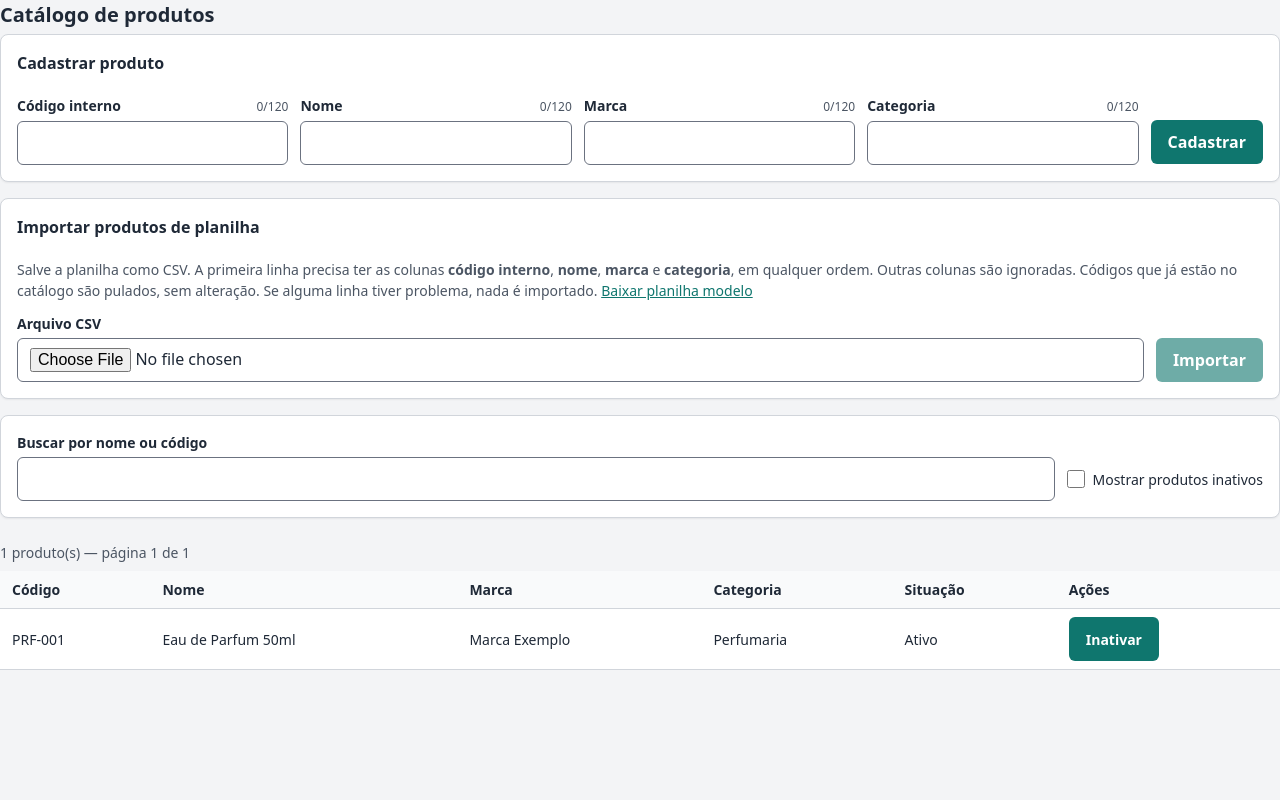
Test case: TelaProdutos (RF02) › confirmação antes de inativar (T39) › Esc cancela, como o botão
Click the button "Inativar": x=1114, y=639 [1069, 617, 1159, 661]
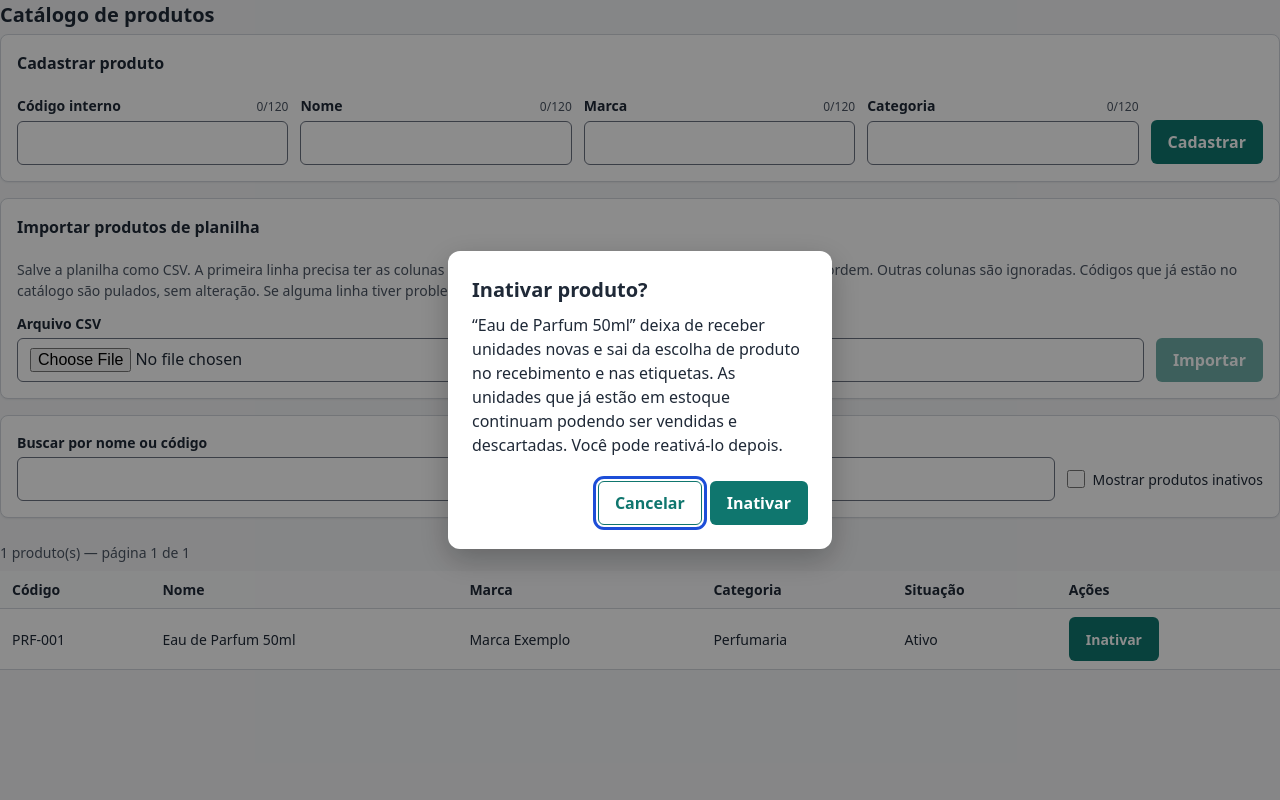
Press Escape in the dialog "Inativar produto?", box [448, 251, 832, 549]
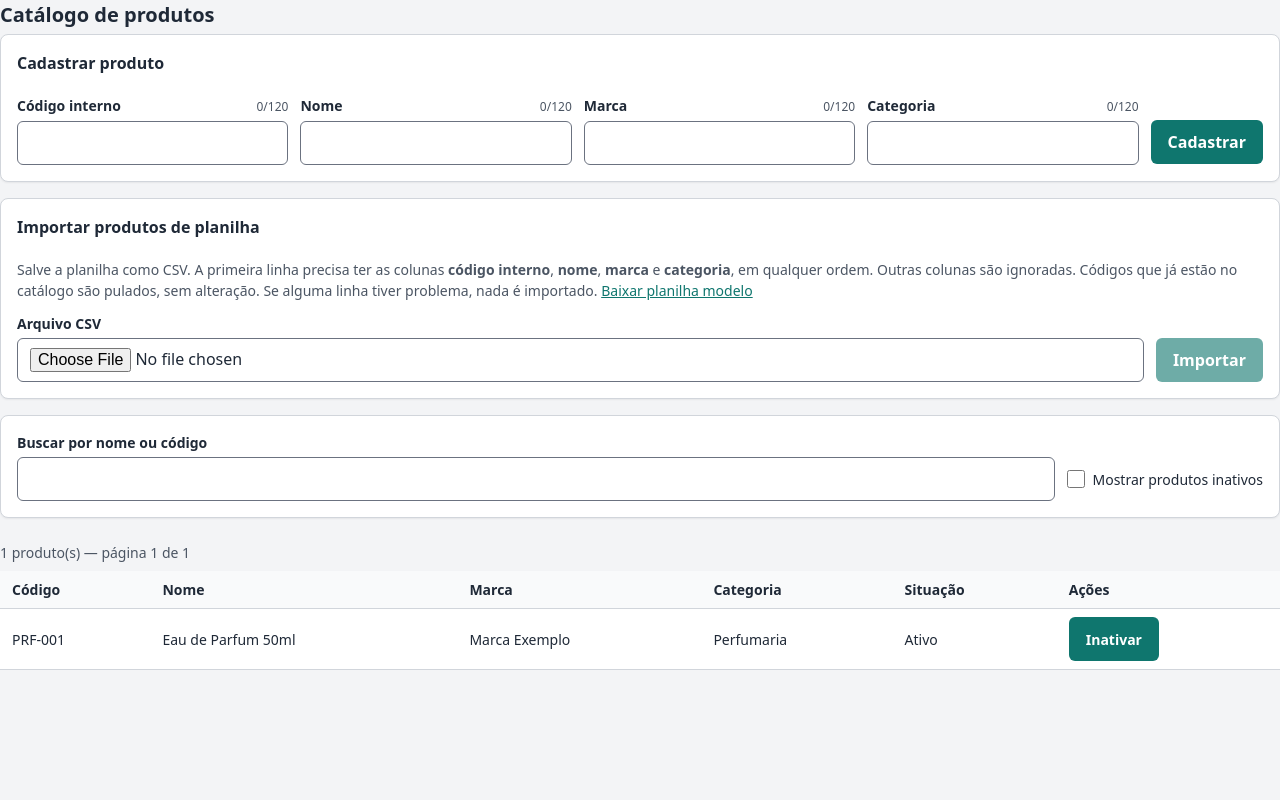
expect the dialog is gone: met
